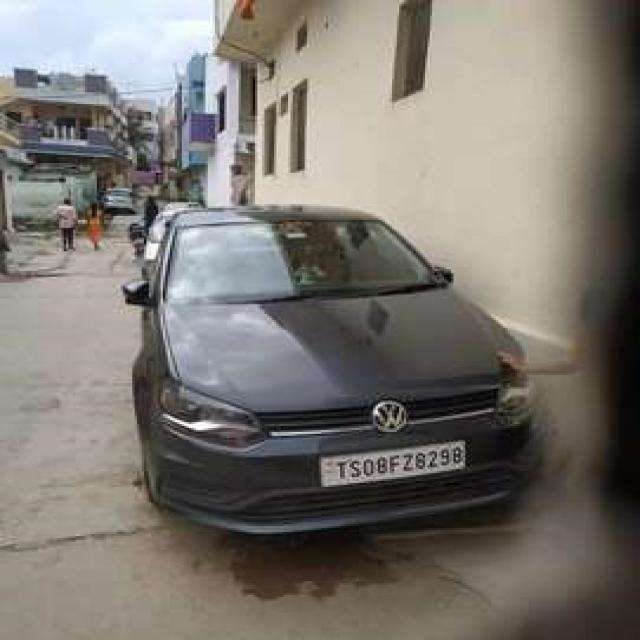licenseplate: (320, 439, 468, 486)
